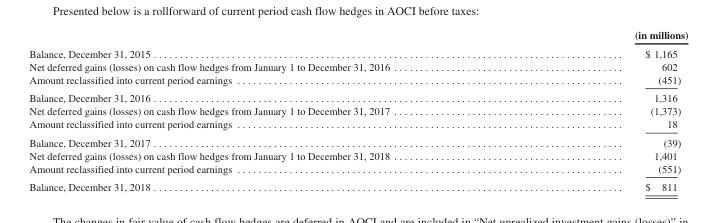table: (28, 28, 687, 192)
table column: (28, 28, 511, 192), (511, 28, 687, 192)
table column header: (28, 28, 687, 43)
table row: (28, 43, 687, 59), (28, 72, 687, 88), (28, 88, 687, 104), (28, 132, 687, 148), (28, 161, 687, 177), (28, 28, 687, 43), (28, 117, 687, 132), (28, 177, 687, 192), (28, 59, 687, 72), (28, 104, 687, 117), (28, 148, 687, 161)
